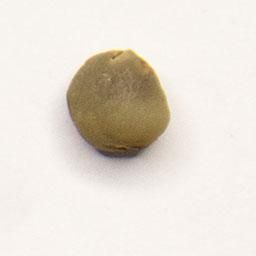peaberry: (63, 46, 175, 158)
